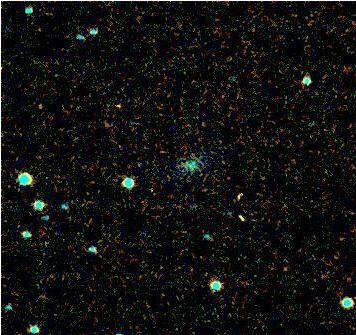star: (102, 93, 132, 123)
